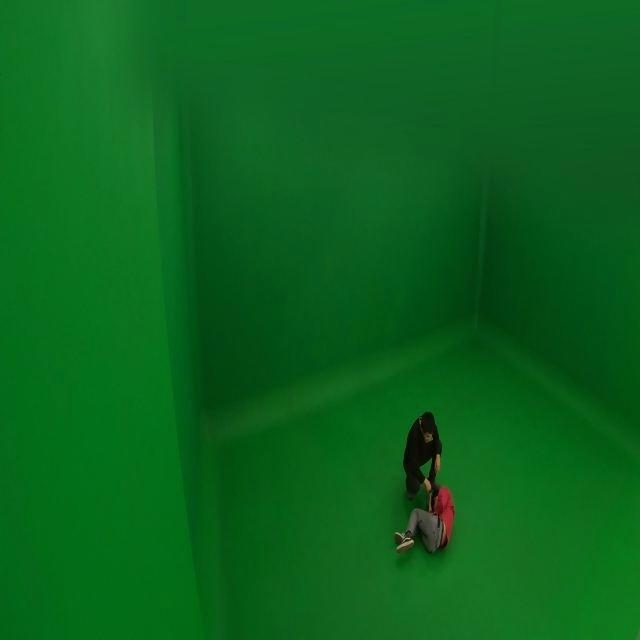fight: (392, 409, 455, 557)
